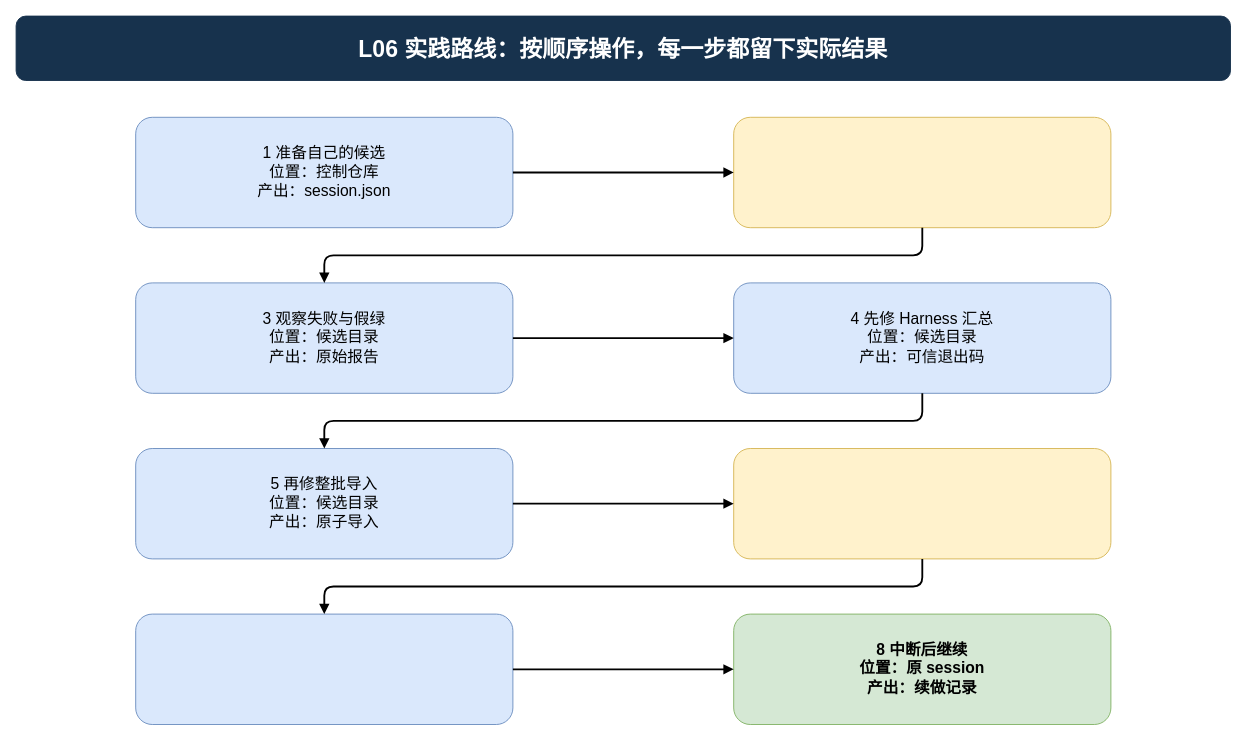
Some shapes in this 1247 by 741 pixel diagram are drawn without their labels. The shapes that lost their labels are listed below. From the top down, each one's centre as x and y in pixels, then its label:
At point (922, 172): "2 写首次判断 位置：你 产出：个人记录".
At point (922, 503): "6 换七行数据复验 位置：候选目录 产出：新报告".
At point (324, 668): "7 检查差异并交接 位置：复验者 产出：接受或打回".
